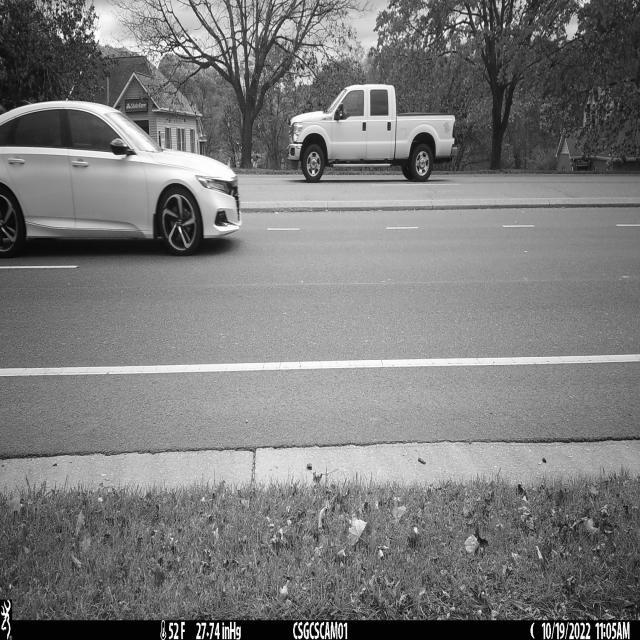Pickup: (286, 83, 460, 183)
Sedan: (0, 101, 241, 257)
